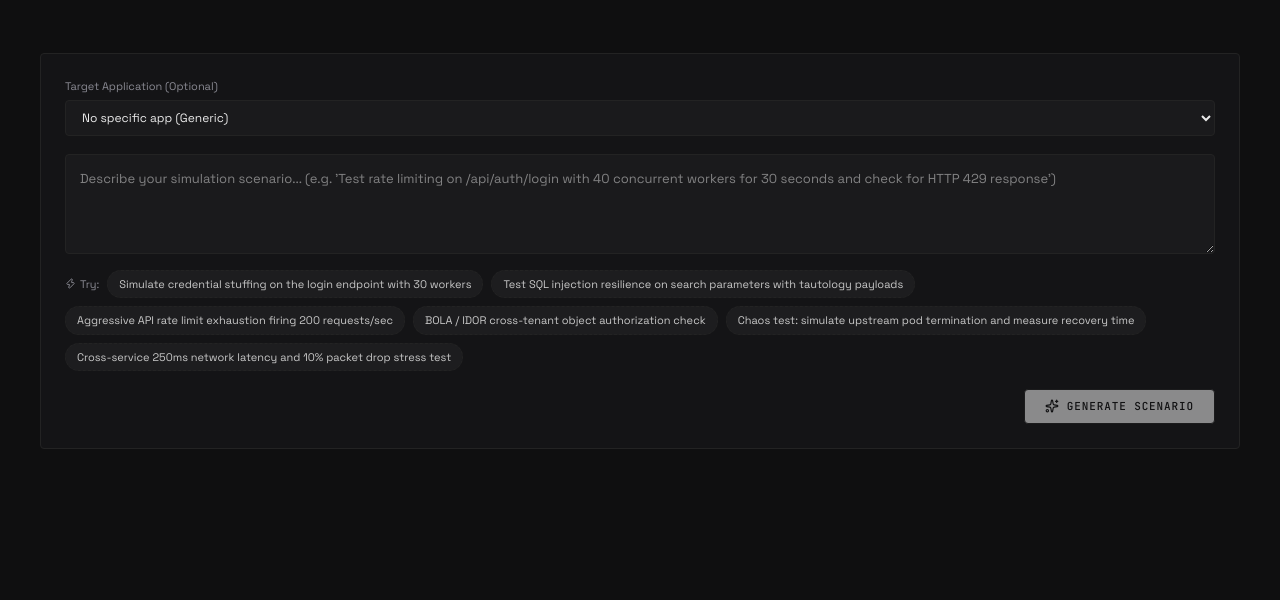
Test: Pantheon Frontend Phase 5 - Phase 7 Verification Tests › Phase 6: AI Scenario Builder generates scenario and successfully saves to library
Replace the text in the text box with placeholder "Describe your simulation scenario" with "Test SQL injection resilience on search parameters" at (640, 204), box [65, 154, 1215, 254]
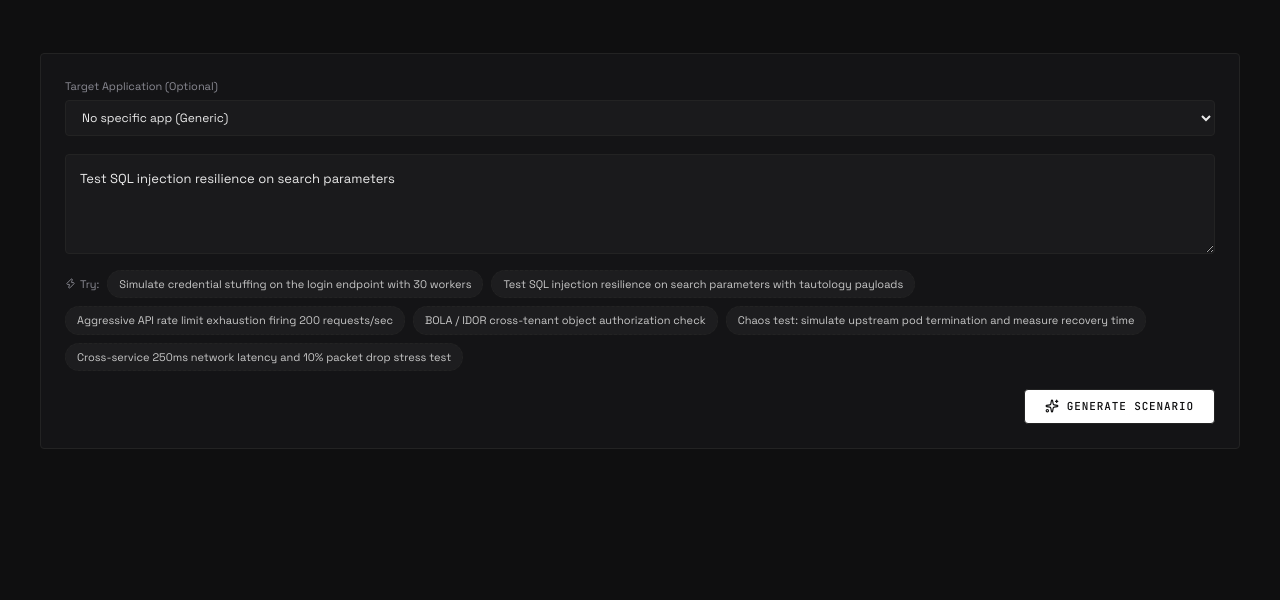
Click the button "Generate Scenario" at (1119, 406), box [1024, 389, 1215, 424]
(page scrolled)
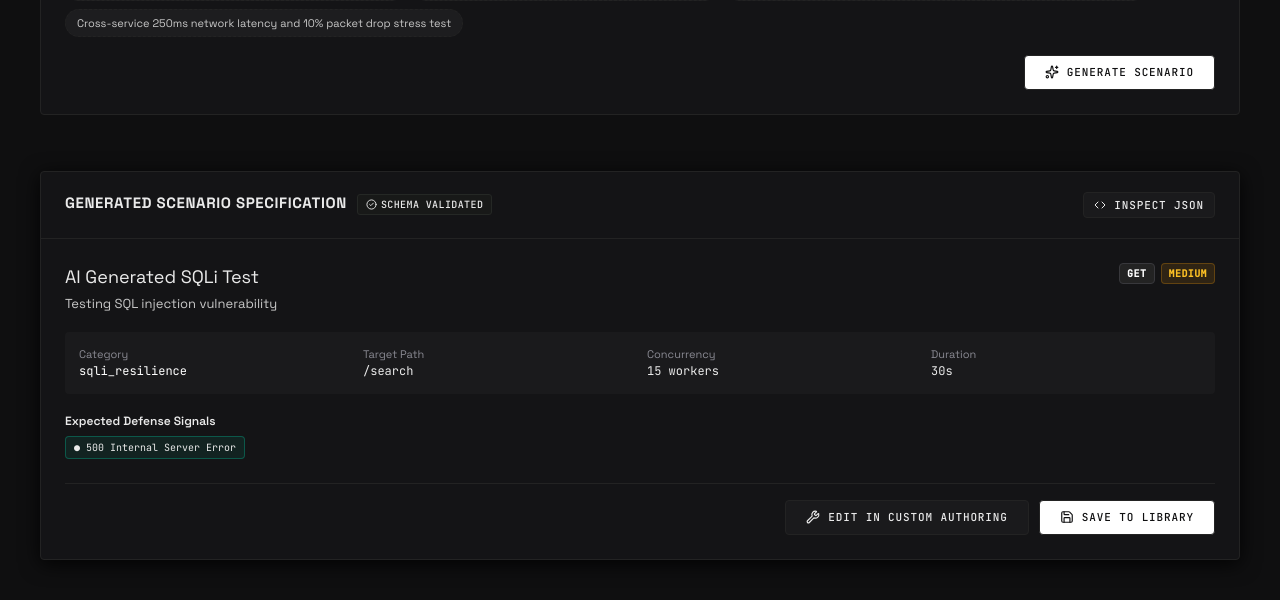
Expected: the heading "AI Generated SQLi Test" is shown, [65, 263, 277, 290]
Click the button "Save to Library" at (1127, 517), box [1039, 500, 1215, 535]
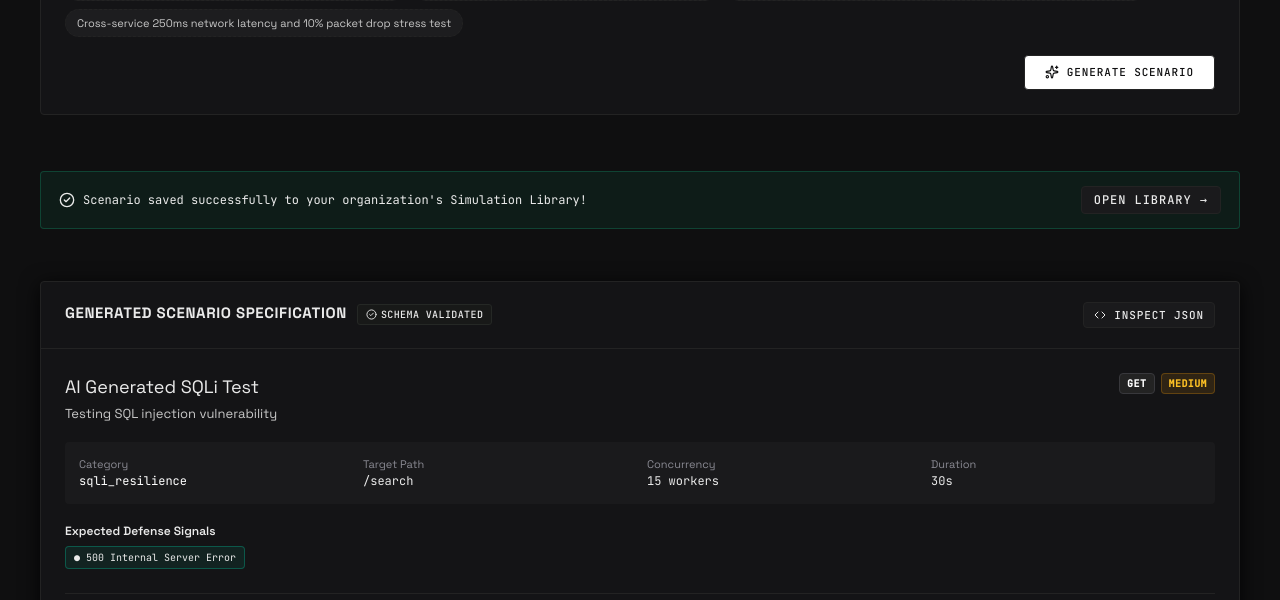
Expected: the text "Scenario saved successfully to your organization's Simulation Library!" is shown, [83, 191, 587, 209]
